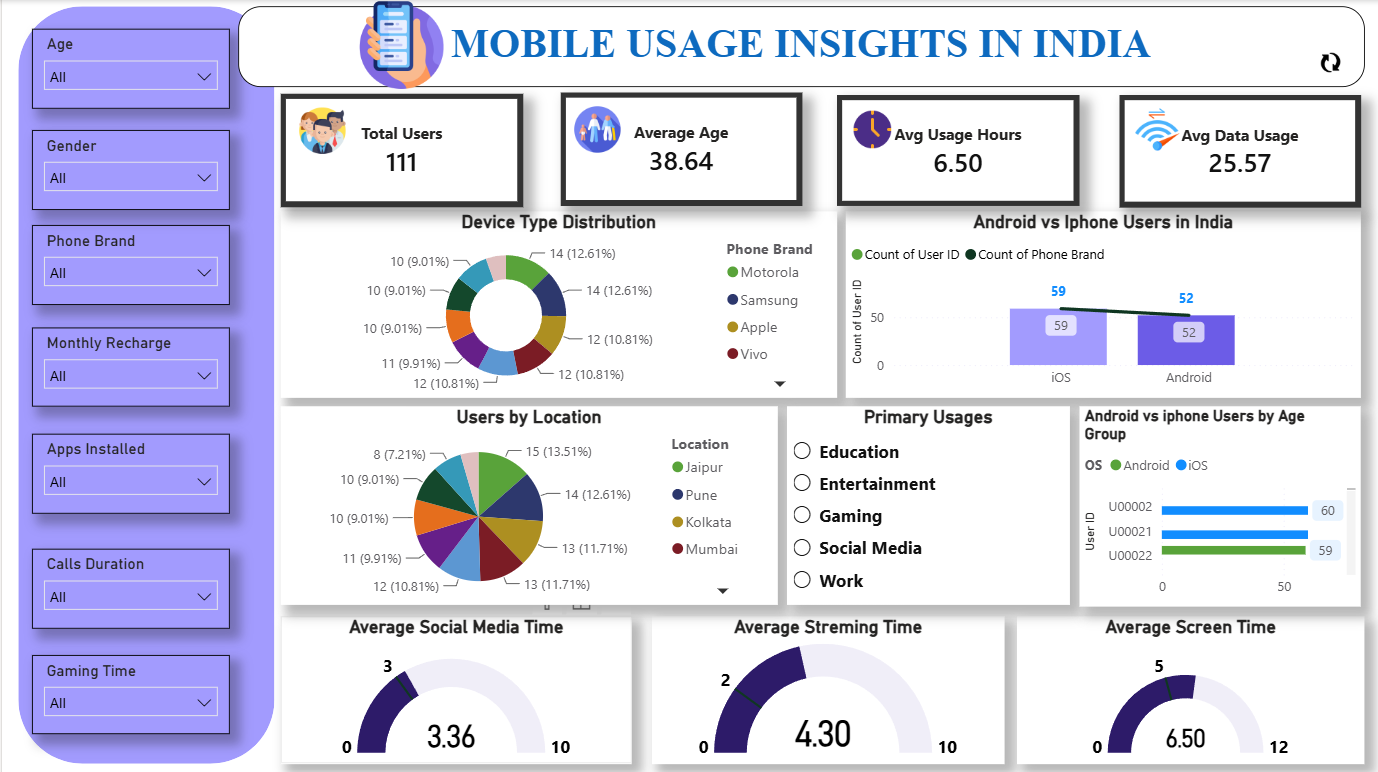

The dashboard page shown, as its layout file describes it:
{"tool":"powerbi","page":{"name":"Page 1","canvas":[1280,720],"ordinal":0},"visuals":[{"type":"shape","box":[15.1,5.8,238.4,704.7],"z":0},{"type":"cardVisual","title":"TOTAL USERS","fields":{"Data":["phone_usage_india.Total Users"]},"box":[259.3,87.2,225.6,105.8],"z":0,"group":"g1"},{"type":"slicer","fields":{"Values":["phone_usage_india.Age"]},"box":[27.9,26.7,183.7,74],"z":1000},{"type":"cardVisual","fields":{"Data":["phone_usage_india.Average Age"]},"box":[519.8,86,224.4,105.8],"z":1000,"group":"g2"},{"type":"cardVisual","fields":{"Data":["phone_usage_india.Avg Usage Hours"]},"box":[776.7,88.2,225.6,103.5],"z":2000,"group":"g3"},{"type":"slicer","fields":{"Values":["phone_usage_india.Gender"]},"box":[27.9,120.9,183.7,74.4],"z":2000},{"type":"cardVisual","fields":{"Data":["phone_usage_india.Avg Data Usage"]},"box":[1039.5,88.4,224.4,104.7],"z":3000,"group":"g4"},{"type":"slicer","fields":{"Values":["phone_usage_india.Phone Brand"]},"box":[27.9,209.3,183.7,74.4],"z":3000},{"type":"slicer","fields":{"Values":["phone_usage_india.Monthly Recharge Cost (INR)"]},"box":[27.9,304.7,183.7,73.3],"z":4000},{"type":"slicer","fields":{"Values":["phone_usage_india.Number of Apps Installed"]},"box":[27.9,403.5,183.7,74.4],"z":5000},{"type":"slicer","fields":{"Values":["phone_usage_india.Calls Duration (mins/day)"]},"box":[27.9,510.5,183.7,74.4],"z":6000},{"type":"slicer","fields":{"Values":["phone_usage_india.Gaming Time (hrs/day)"]},"box":[27.9,609.3,183.7,73.3],"z":7000},{"type":"textbox","box":[219.8,5.8,1047.7,75.6],"z":8000},{"type":"image","box":[296.5,1.2,150,81.4],"z":9000},{"type":"donutChart","title":"Device Type Distribution","fields":{"Category":["phone_usage_india.Phone Brand"],"Y":["CountNonNull(phone_usage_india.User ID)"]},"box":[259.3,196.5,517.4,173.3],"z":10000},{"type":"lineStackedColumnComboChart","title":"Android vs Iphone Users in India","fields":{"Category":["phone_usage_india.OS"],"Y":["CountNonNull(phone_usage_india.User ID)"],"Y2":["CountNonNull(phone_usage_india.Phone Brand)"]},"box":[784.9,196.5,479.1,173.3],"z":11000},{"type":"gauge","title":"Average Social Media Time","fields":{"Y":["Avg(phone_usage_india.Social Media Time (hrs/day))"],"MinValue":["phone_usage_india.Minimum Usage"],"MaxValue":["phone_usage_india.Maximum Usage"],"TargetValue":["phone_usage_india.social media Target"]},"box":[259.3,573.3,326.7,137.2],"z":12000},{"type":"gauge","title":"Average Streming Time","fields":{"Y":["Avg(phone_usage_india.Streaming Time (hrs/day))"],"MinValue":["phone_usage_india.Minimum Usage"],"MaxValue":["phone_usage_india.Maximum Usage"],"TargetValue":["phone_usage_india.streming target"]},"box":[604.7,573.3,327.9,137.2],"z":13000},{"type":"image","box":[273.3,100,50,43],"z":14000,"group":"g1"},{"type":"gauge","title":"Average Screen Time","fields":{"Y":["Avg(phone_usage_india.Screen Time (hrs/day))"],"MinValue":["phone_usage_india.Minimum Usage"],"MaxValue":["phone_usage_india.maximum value"],"TargetValue":["phone_usage_india.screen target"]},"box":[944.2,573.3,323.3,137.2],"z":14000},{"type":"image","box":[529.1,98.8,50,43],"z":15000,"group":"g2"},{"type":"pieChart","title":"Users by Location","fields":{"Y":["CountNonNull(phone_usage_india.User ID)"],"Category":["phone_usage_india.Location"]},"box":[259.4,378.2,462.3,184.9],"z":15000},{"type":"group","id":"g1","title":"Group 1","box":[259.3,87.2,225.6,105.8],"z":16000},{"type":"image","box":[784.8,98.7,50,43],"z":16000,"group":"g3"},{"type":"group","id":"g2","title":"Group 2","box":[519.8,86,224.4,105.8],"z":17000},{"type":"image","box":[1050,98.9,50,43],"z":17000,"group":"g4"},{"type":"group","id":"g3","title":"Group 3","box":[776.7,88.2,225.6,103.5],"z":18000},{"type":"group","id":"g4","title":"Group 4","box":[1039.5,88.4,224.4,104.7],"z":19000},{"type":"listSlicer","title":"Primary Usages","fields":{"Values":["phone_usage_india.Primary Use"]},"box":[730.1,378.2,263,184.9],"z":20000},{"type":"actionButton","box":[1226.3,44,18,27.1],"z":21000},{"type":"clusteredBarChart","title":"Android vs iphone Users by Age Group","fields":{"Series":["phone_usage_india.OS"],"Category":["phone_usage_india.User ID"],"Y":["Sum(phone_usage_india.Age)"]},"box":[1002.6,378.2,261.8,186.1],"z":21001}]}

Visuals, with their boxes in screenshot pixels (x1, y1, x2, y2), scaled from the page's 1280x720 canvas onto the 1378x772 screenshot:
shape: 16, 6, 273, 762
"TOTAL USERS" cardVisual: 279, 93, 522, 207
slicer - phone_usage_india.Age: 30, 29, 228, 108
cardVisual - phone_usage_india.Average Age: 560, 92, 801, 206
cardVisual - phone_usage_india.Avg Usage Hours: 836, 95, 1079, 206
slicer - phone_usage_india.Gender: 30, 130, 228, 209
cardVisual - phone_usage_india.Avg Data Usage: 1119, 95, 1361, 207
slicer - phone_usage_india.Phone Brand: 30, 224, 228, 304
slicer - phone_usage_india.Monthly Recharge Cost (INR): 30, 327, 228, 405
slicer - phone_usage_india.Number of Apps Installed: 30, 433, 228, 512
slicer - phone_usage_india.Calls Duration (mins/day): 30, 547, 228, 627
slicer - phone_usage_india.Gaming Time (hrs/day): 30, 653, 228, 732
textbox: 237, 6, 1365, 87
image: 319, 1, 481, 89
"Device Type Distribution" donutChart: 279, 211, 836, 397
"Android vs Iphone Users in India" lineStackedColumnComboChart: 845, 211, 1361, 397
"Average Social Media Time" gauge: 279, 615, 631, 762
"Average Streming Time" gauge: 651, 615, 1004, 762
image: 294, 107, 348, 153
"Average Screen Time" gauge: 1016, 615, 1365, 762
image: 570, 106, 623, 152
"Users by Location" pieChart: 279, 406, 777, 604
"Group 1" group: 279, 93, 522, 207
image: 845, 106, 899, 152
"Group 2" group: 560, 92, 801, 206
image: 1130, 106, 1184, 152
"Group 3" group: 836, 95, 1079, 206
"Group 4" group: 1119, 95, 1361, 207
"Primary Usages" listSlicer: 786, 406, 1069, 604
actionButton: 1320, 47, 1340, 76
"Android vs iphone Users by Age Group" clusteredBarChart: 1079, 406, 1361, 605
